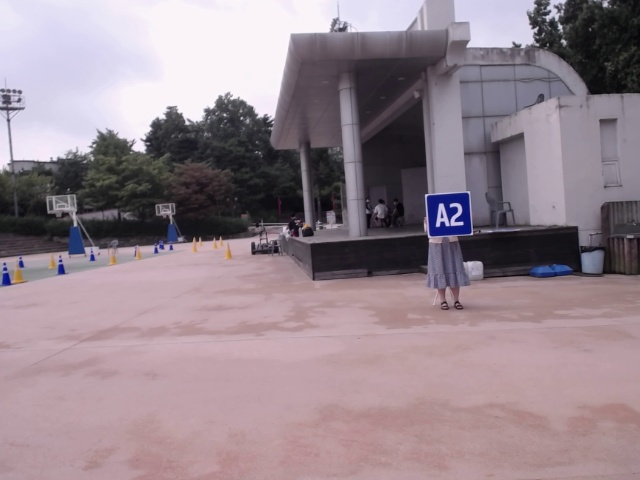delivery_a2: (426, 193, 472, 238)
